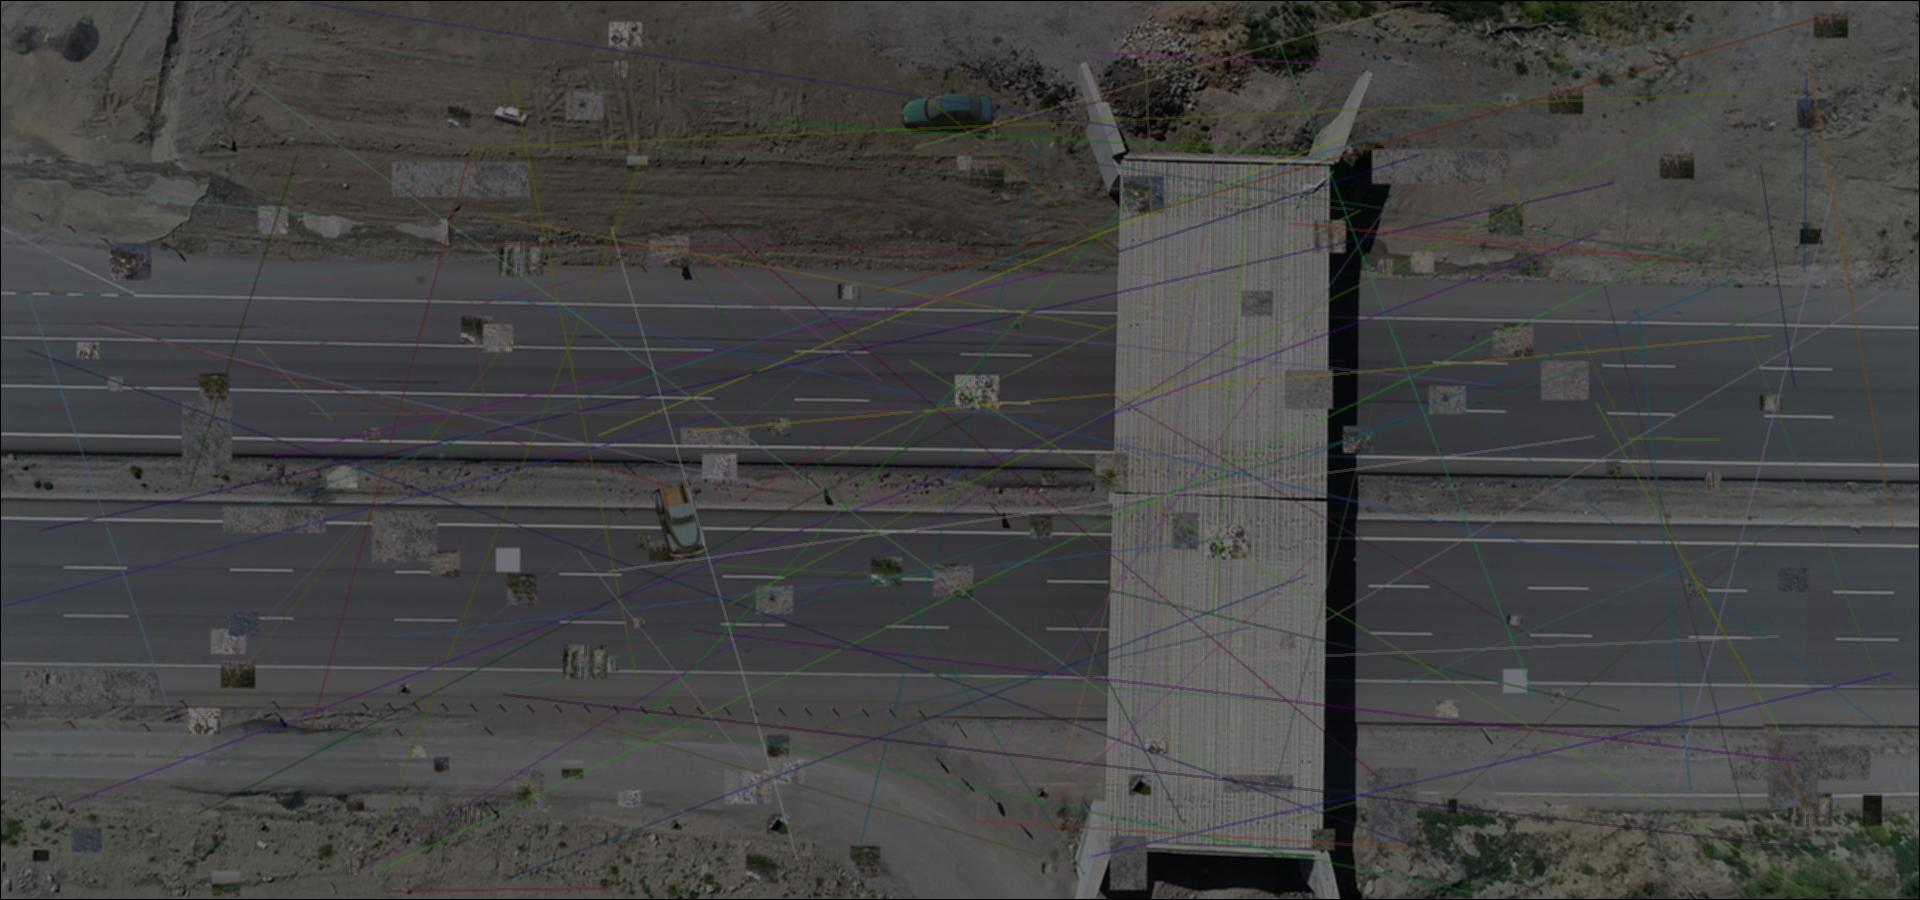arac: (651, 480, 708, 558), (900, 94, 996, 133), (491, 104, 529, 129)
